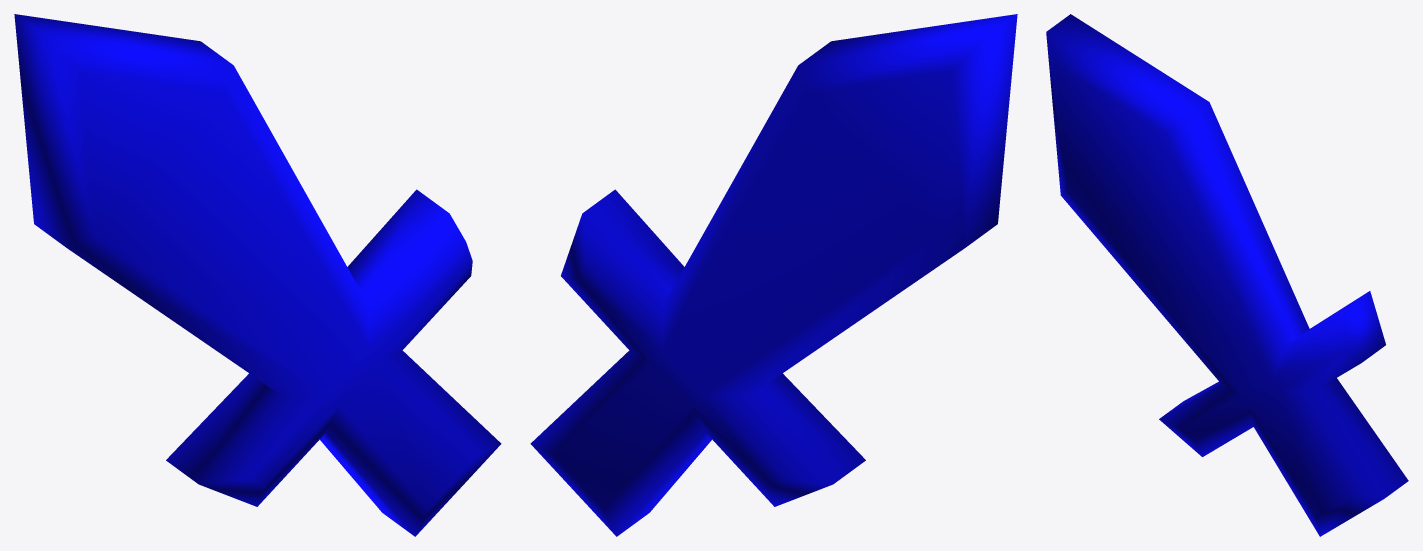
The model's file is Changer_Icon_Sword.fbx.
3 renders of one model, left to right at view 1: azimuth 30°, elevation 25°; view 2: azimuth 150°, elevation 25°; view 3: azimuth 330°, elevation 25°, orthographic. The views are drawn at different scales.
Parts seen in each view (by area): view 1: Changer_Icon_Sword; view 2: Changer_Icon_Sword; view 3: Changer_Icon_Sword.
Boxes of the visible parts, x1=… form: Changer_Icon_Sword: x1=14, y1=14, x2=501, y2=536; Changer_Icon_Sword: x1=530, y1=14, x2=1017, y2=536; Changer_Icon_Sword: x1=1046, y1=14, x2=1408, y2=536.
Size of the model in its own units: 80.1 by 99.19 by 15.55.
Materials: 1 (1 with a texture image).
